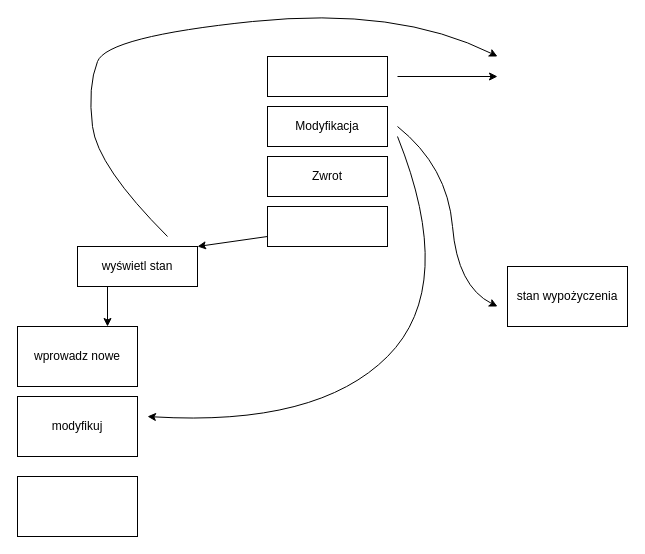
Image size: 645x554. Some labels were removed from this diagram. Each missing label, with the box of its shape:
kasuj: (16, 476, 138, 536)
Park Aut: (266, 206, 388, 246)
Wypożyczenie: (266, 56, 388, 96)
